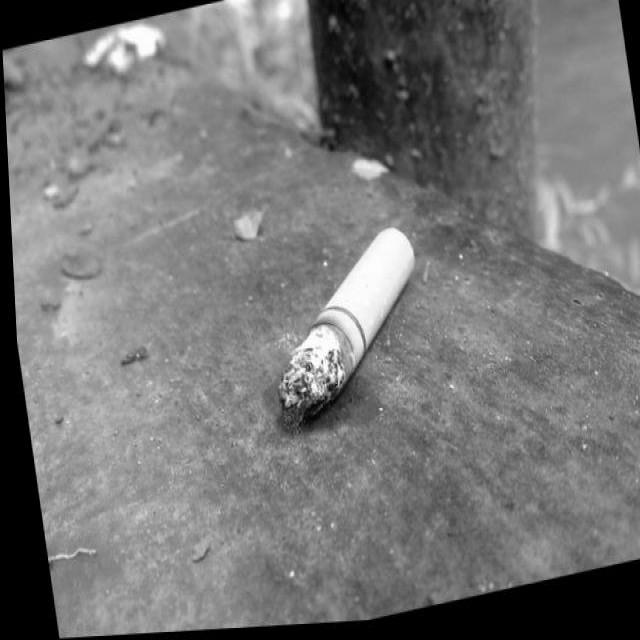cigarette: (253, 222, 435, 431)
